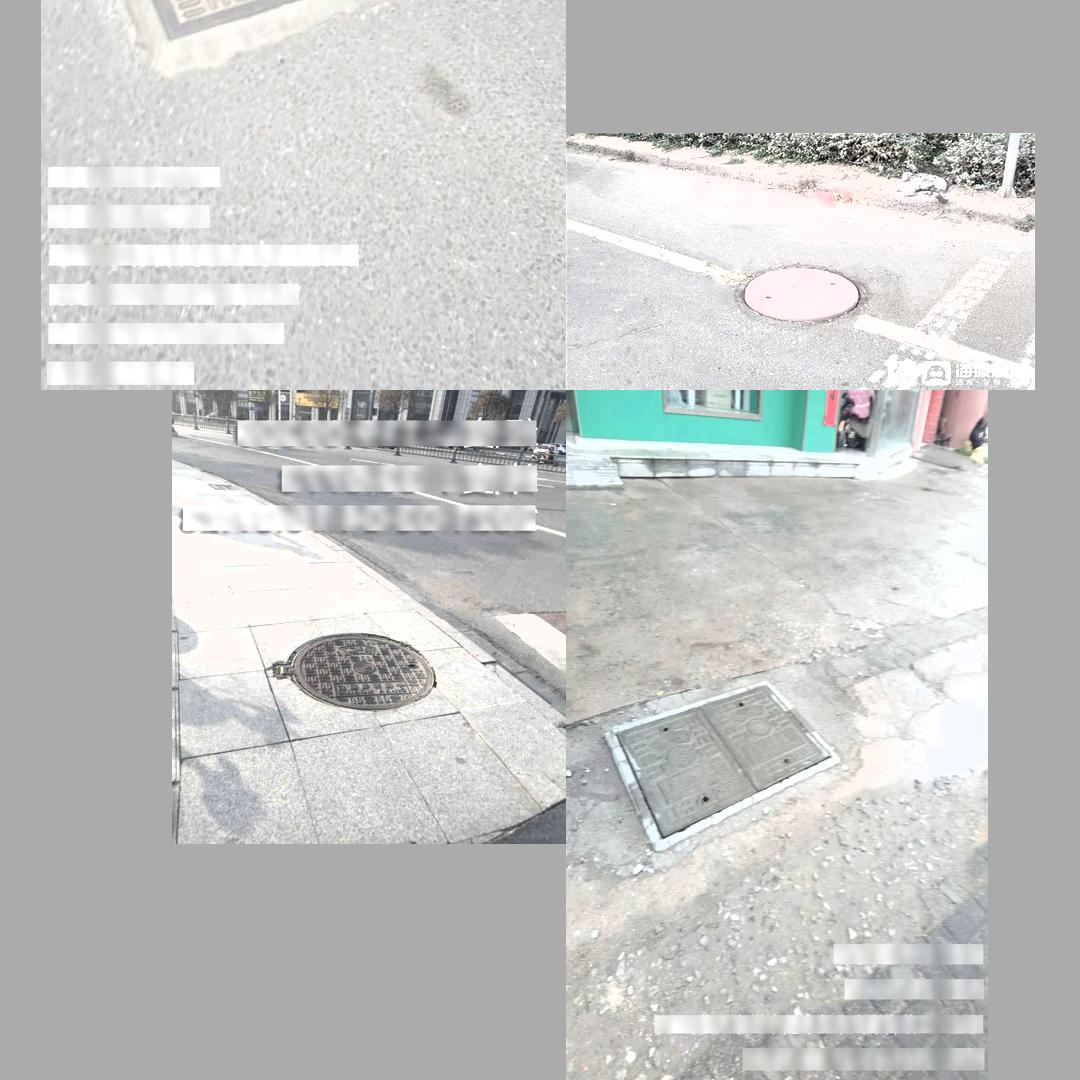good: (606, 678, 841, 852), (277, 632, 436, 710), (730, 258, 881, 329), (89, 0, 418, 32)
